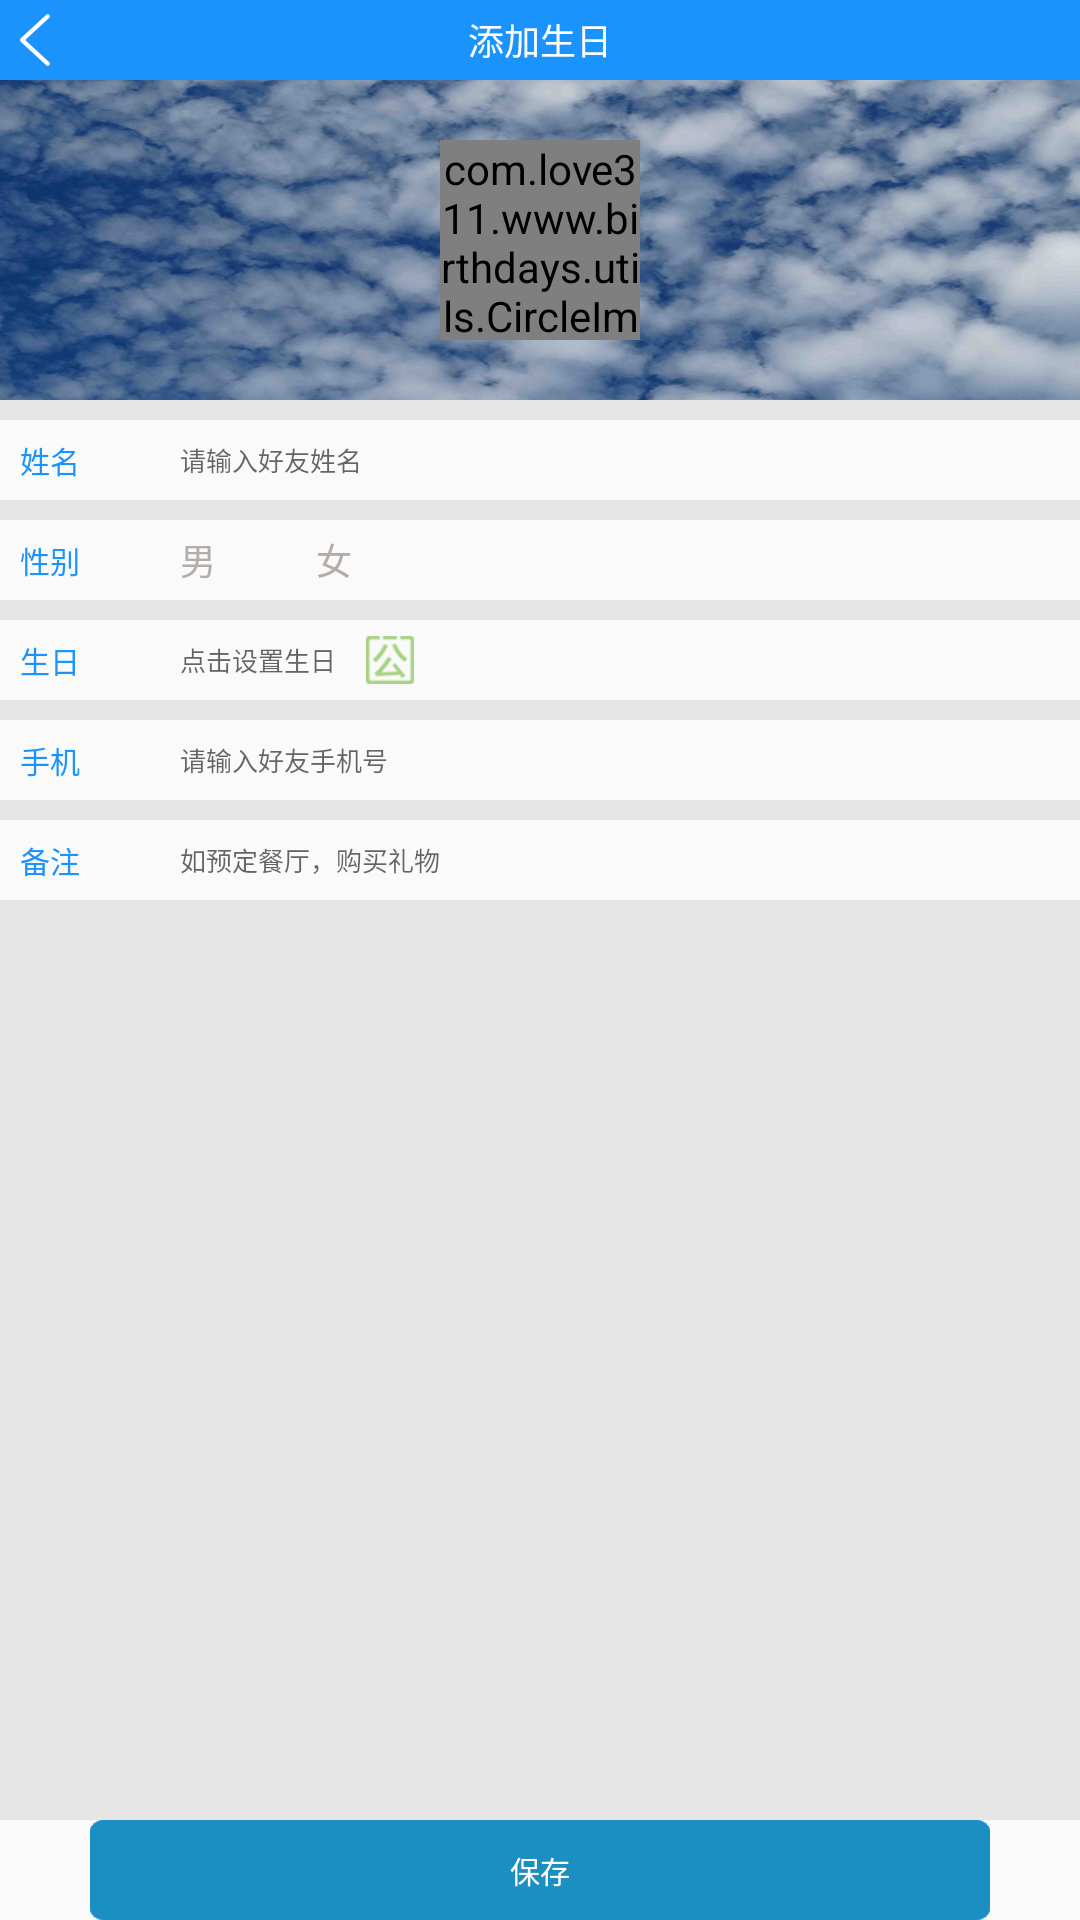

Where to tap for icons on this 1080×1920 app screen, as (x,y):
return: (35,40)
